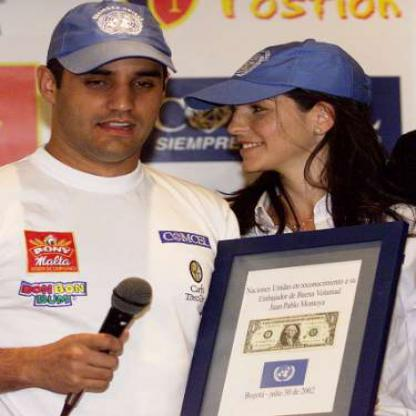face: (57, 4, 168, 164), (220, 52, 317, 178)
